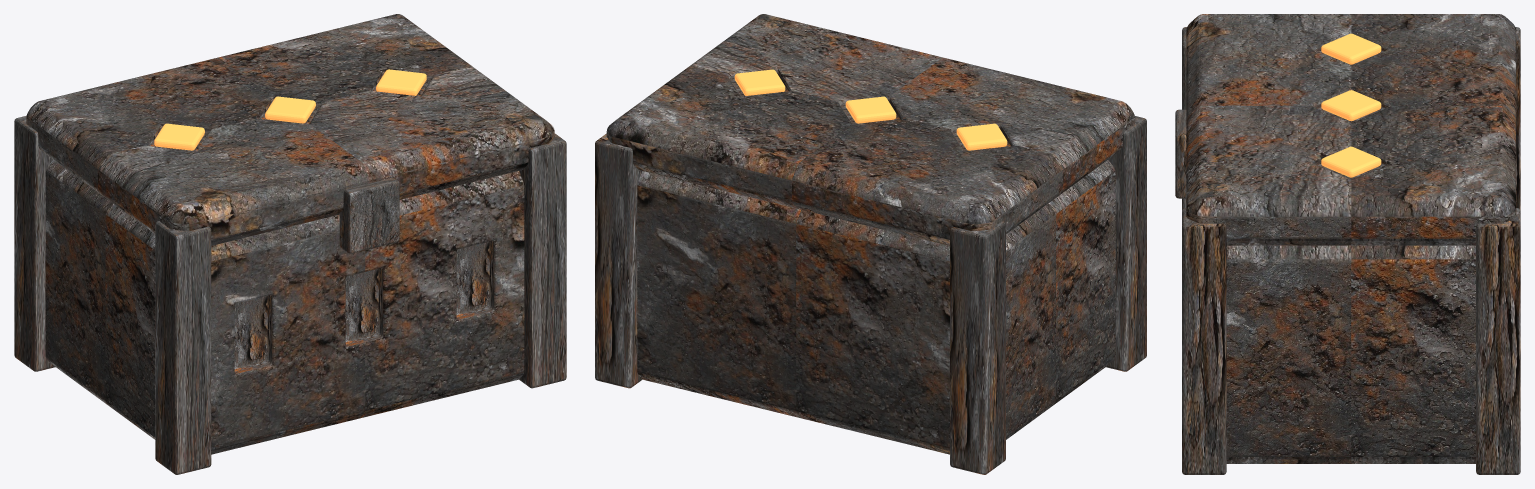
File: containment-box-v01.glb
3 views of the same model, side by side, from view 1: azimuth 30°, elevation 25°; view 2: azimuth 150°, elevation 25°; view 3: azimuth 270°, elevation 25° (orthographic). The views are drawn at different scales.
Parts seen in each view (by area): view 1: containment-box; view 2: containment-box; view 3: containment-box.
Part boxes in pixels (left/top/right/bottom): containment-box: left=14, top=14, right=566, bottom=474; containment-box: left=595, top=14, right=1146, bottom=474; containment-box: left=1175, top=14, right=1520, bottom=474.
Size of the model in its own units: 1.06 by 0.68 by 0.775.
4 materials, 3 textured.
